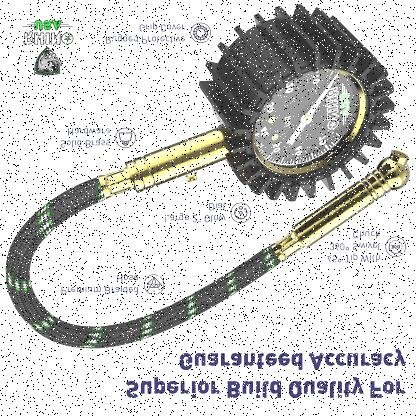needle: (307, 72, 341, 116)
